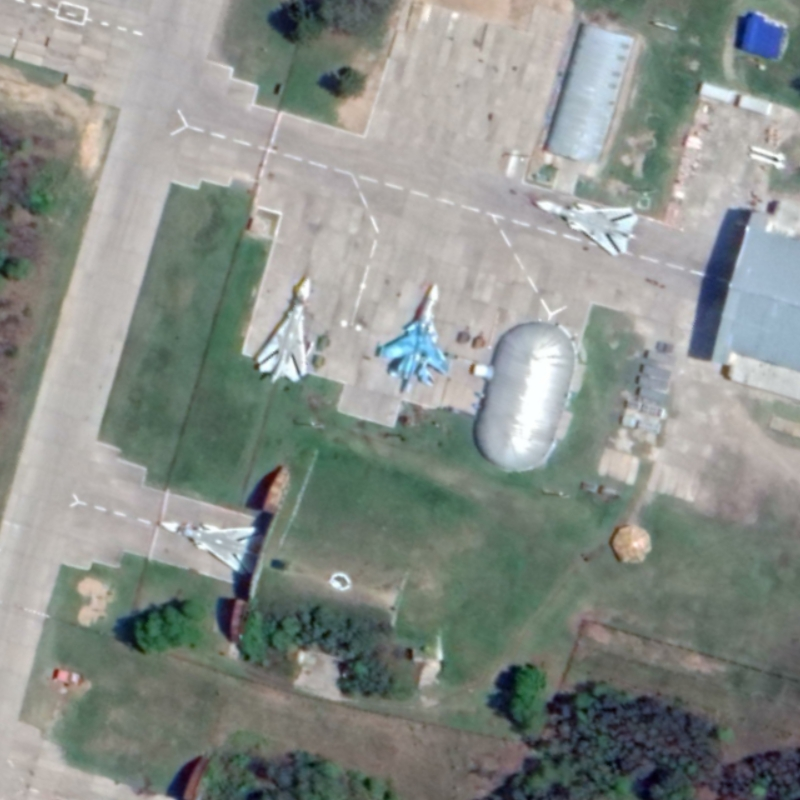A19: (374, 281, 452, 394)
A20: (253, 275, 312, 386), (156, 518, 266, 577), (532, 197, 639, 257)
